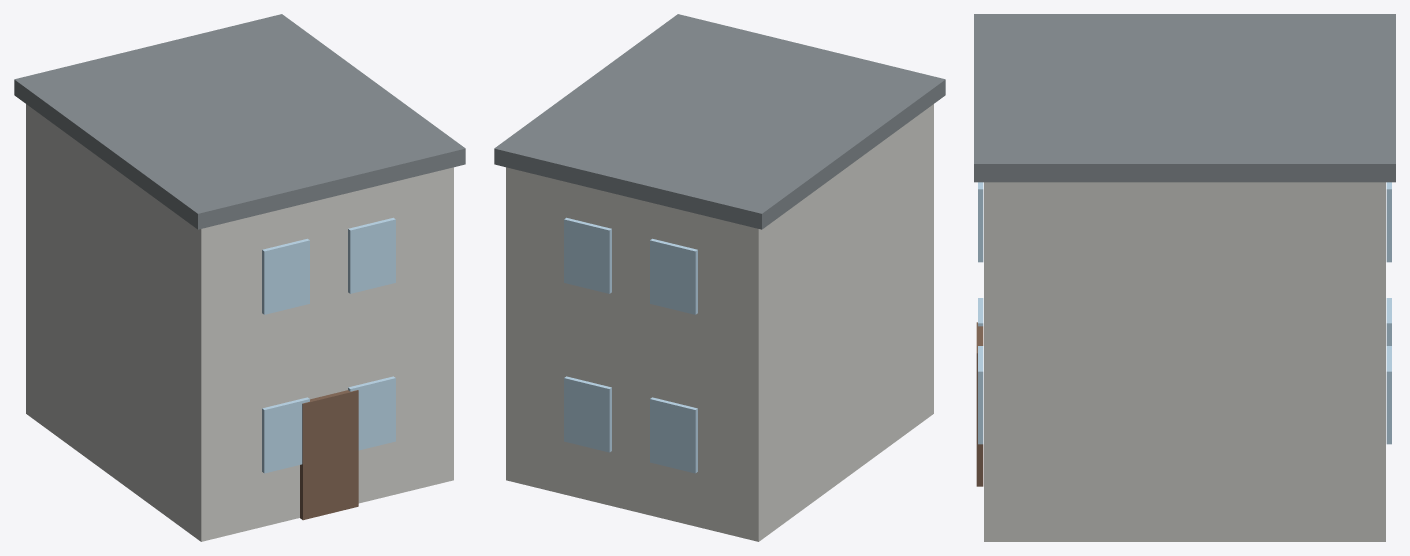
Rendered from building_1000.glb.
The picture shows the model from 3 angles, left to right: view 1: azimuth 30°, elevation 25°; view 2: azimuth 150°, elevation 25°; view 3: azimuth 270°, elevation 25°; orthographic projection. The views are drawn at different scales.
Visible parts, largest first — view 1: building_1000; view 2: building_1000; view 3: building_1000.
Boxes of the visible parts, box(x1,y1,x2,y2) form: building_1000: box(14, 14, 465, 541); building_1000: box(494, 14, 945, 541); building_1000: box(974, 14, 1395, 541).
Size of the model in its own units: 5.3 by 6.3 by 6.3.
